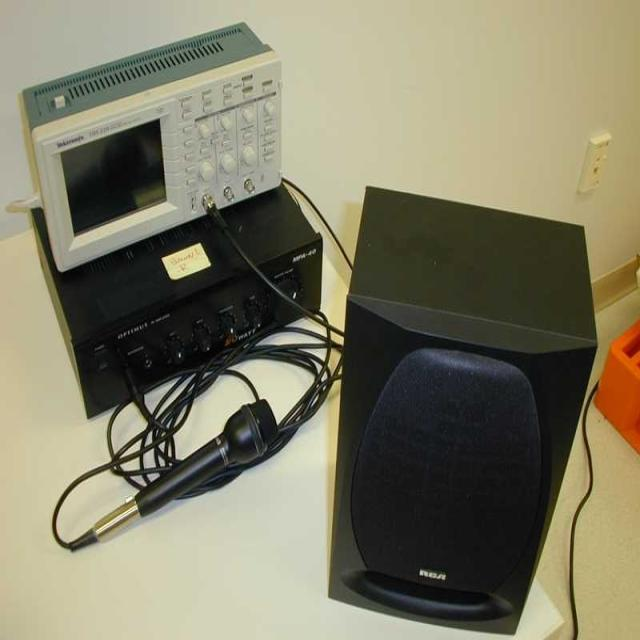microphone: (70, 398, 280, 548)
